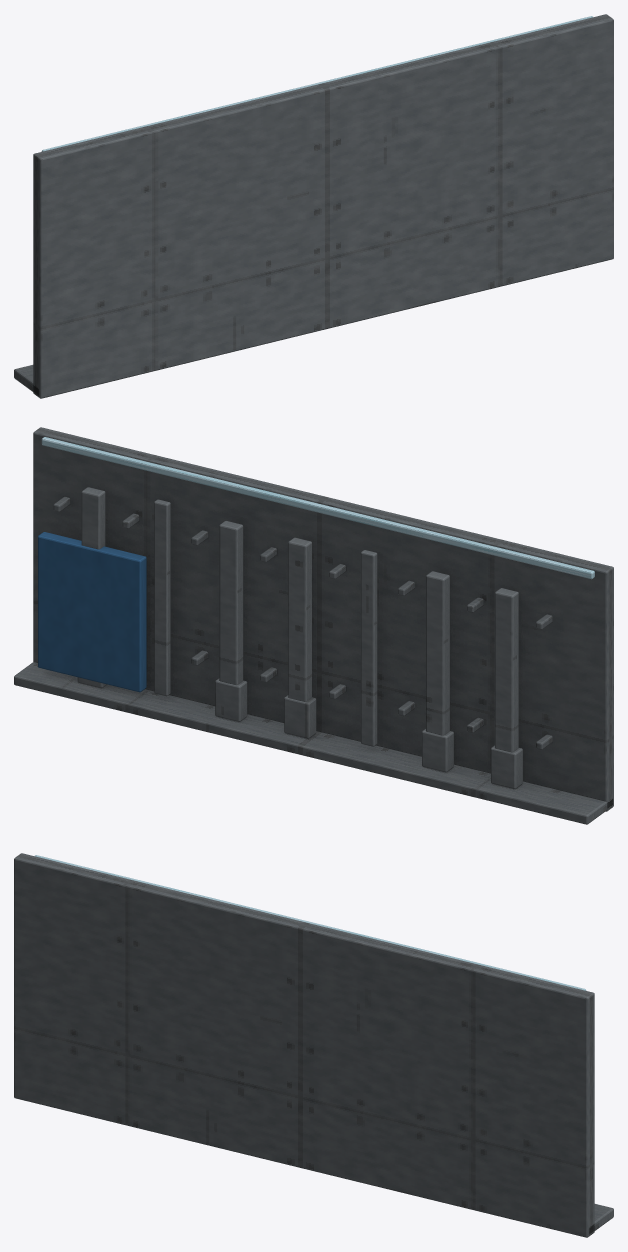
Rendered from base_weapon_wall_rack.glb.
3 views of the same model, one above another, from view 1: azimuth 30°, elevation 25°; view 2: azimuth 150°, elevation 25°; view 3: azimuth 330°, elevation 25° (orthographic).
Visible parts, largest first — view 1: base_weapon_wall_rack.001; view 2: base_weapon_wall_rack.001; view 3: base_weapon_wall_rack.001.
Part boxes in pixels (x1,y1,x2,y2): base_weapon_wall_rack.001: (14, 14, 613, 398); base_weapon_wall_rack.001: (14, 427, 613, 824); base_weapon_wall_rack.001: (14, 853, 613, 1237).
Bounding box in the file's own units: 5 × 2 × 0.41.
4 materials, 4 textured.
